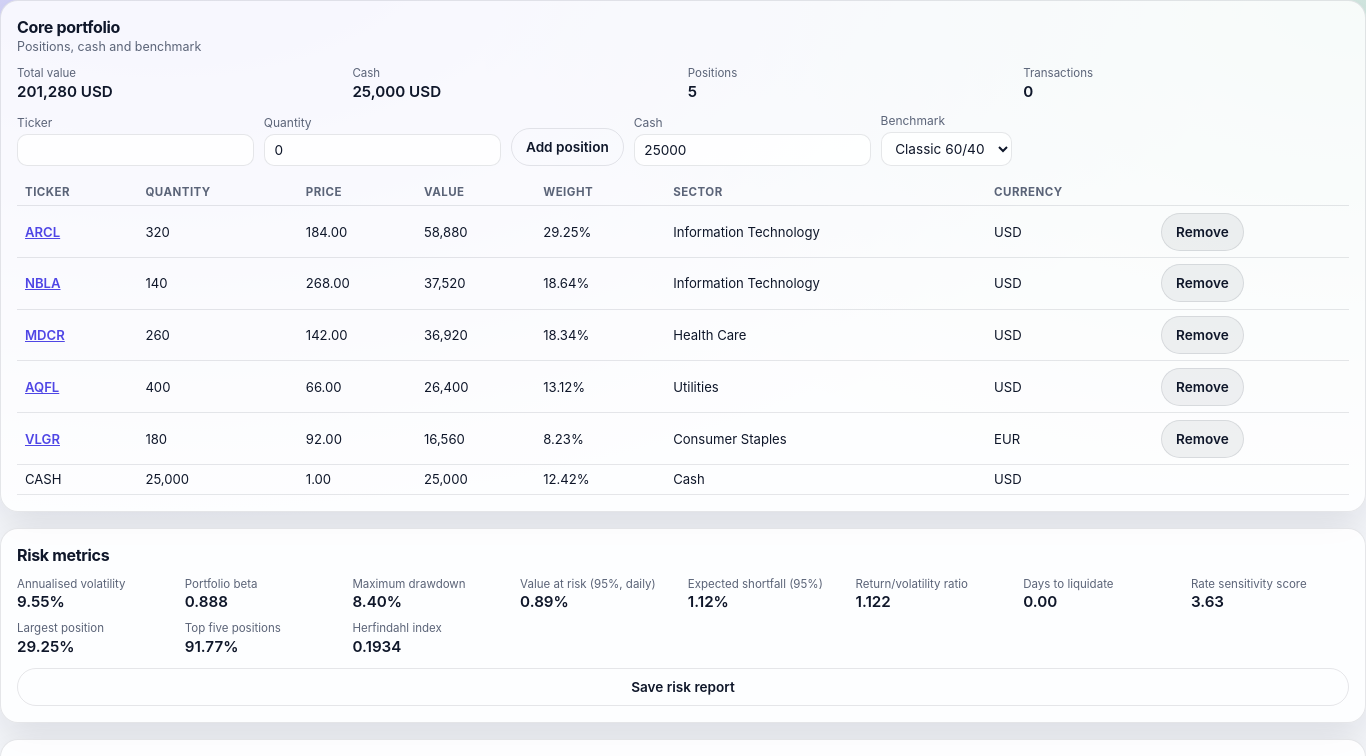
it: PortfolioView › saves a risk report
The width and height of the screenshot is (1366, 756).
Click the button "Save risk report".
click(683, 687)  # box top-left (17, 668), bottom-right (1349, 706)
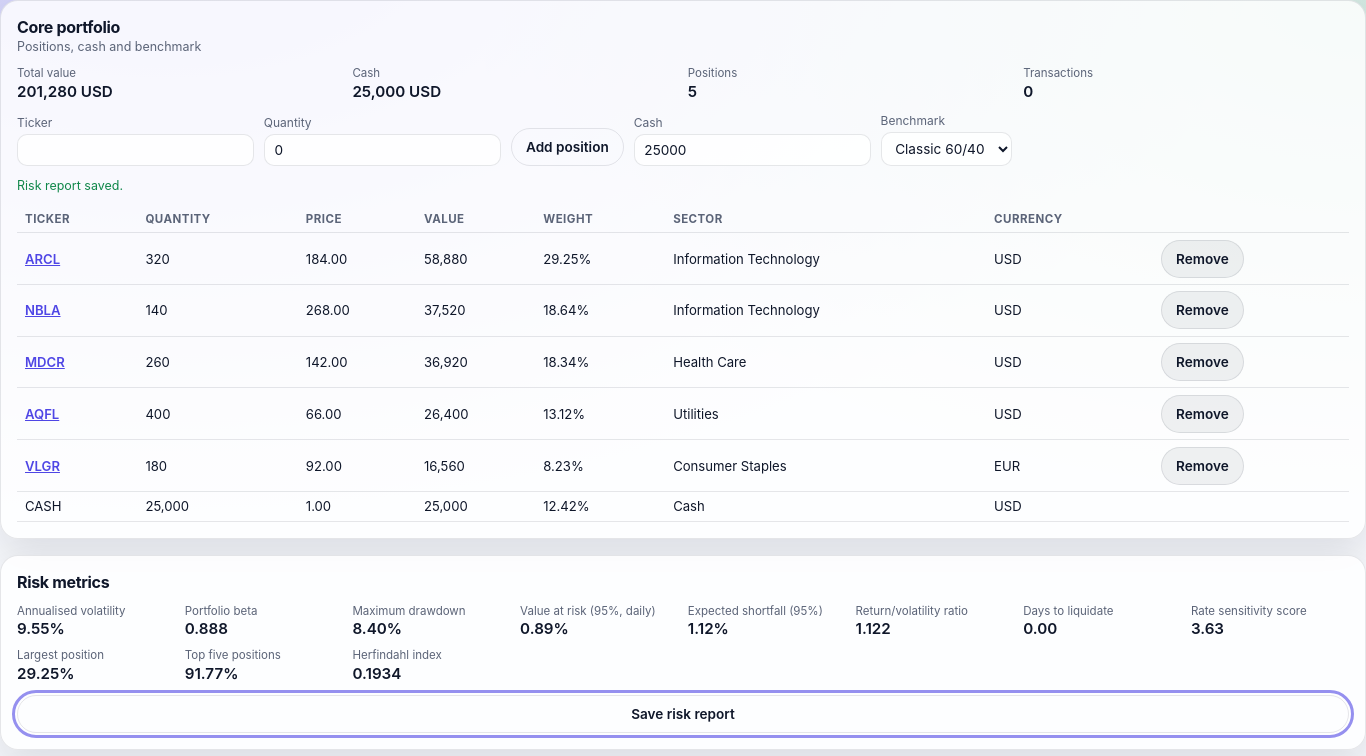
Now the message reads "Risk report saved.", box top-left (17, 178), bottom-right (123, 193)
